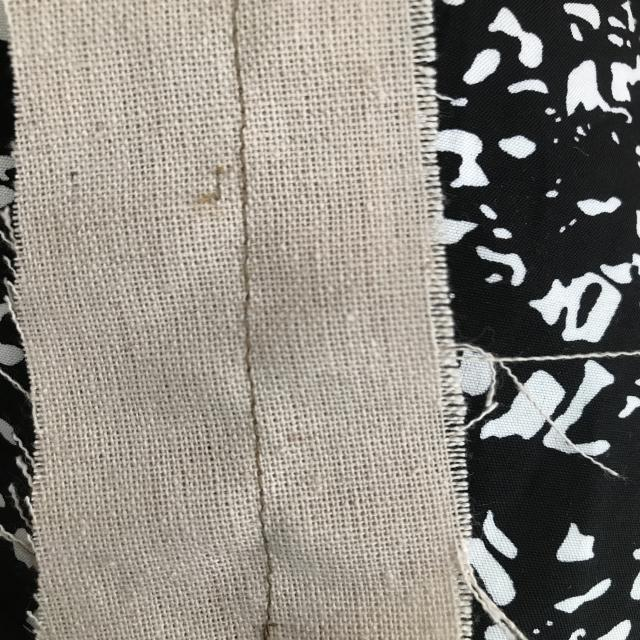good: (227, 250, 270, 421), (236, 456, 290, 544), (212, 40, 260, 126)
